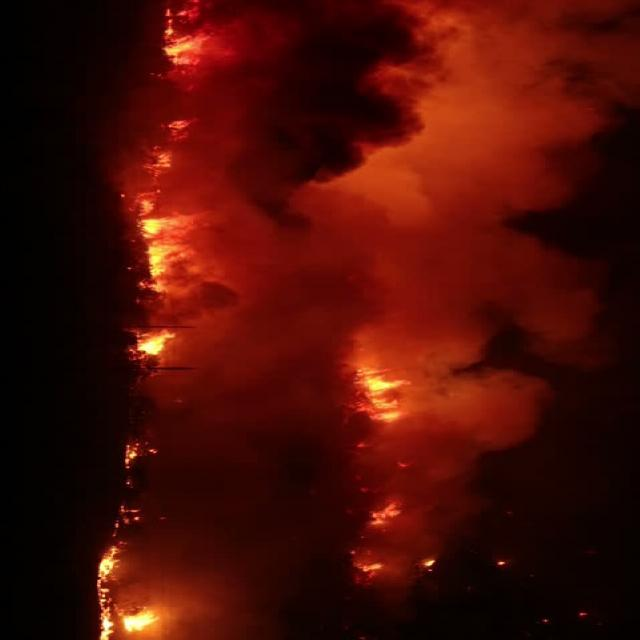Fire: (137, 215, 195, 364), (350, 359, 420, 432)
